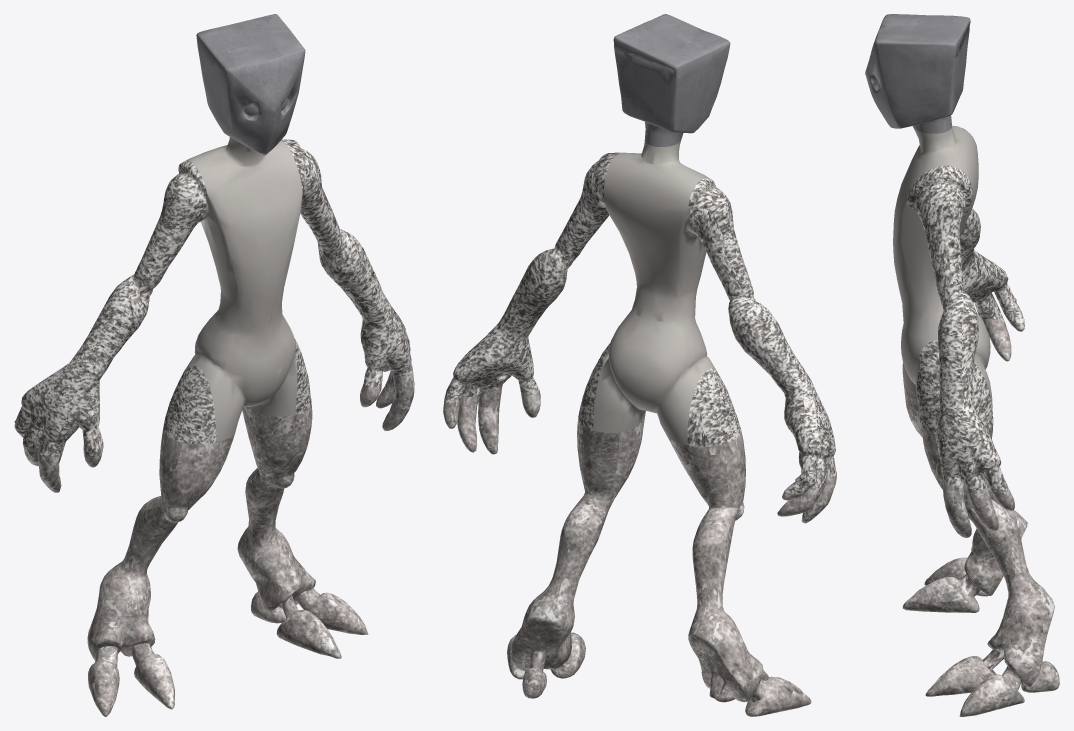
The model's file is 02-taper-tallstalk--3d_humanoid_figure.glb.
3 views of the same model, side by side, from view 1: azimuth 30°, elevation 25°; view 2: azimuth 150°, elevation 25°; view 3: azimuth 270°, elevation 25° (orthographic). The views are drawn at different scales.
Parts seen in each view (by area): view 1: feet_mesh, arms_mesh, body_mesh, head_mesh; view 2: feet_mesh, arms_mesh, body_mesh, head_mesh; view 3: feet_mesh, arms_mesh, head_mesh, body_mesh.
Part boxes in pixels (x1,y1,x2,y2): feet_mesh: [21, 364, 414, 716]; arms_mesh: [14, 139, 412, 457]; body_mesh: [186, 137, 302, 442]; head_mesh: [196, 14, 305, 153]; feet_mesh: [443, 387, 836, 716]; arms_mesh: [444, 152, 836, 494]; body_mesh: [593, 140, 716, 445]; head_mesh: [613, 14, 730, 146]; feet_mesh: [902, 316, 1059, 716]; arms_mesh: [906, 125, 1024, 492]; head_mesh: [865, 14, 970, 133]; body_mesh: [888, 124, 992, 413].
Size of the model in its own units: 1.85 by 3 by 0.8413.
4 materials, 4 textured.
